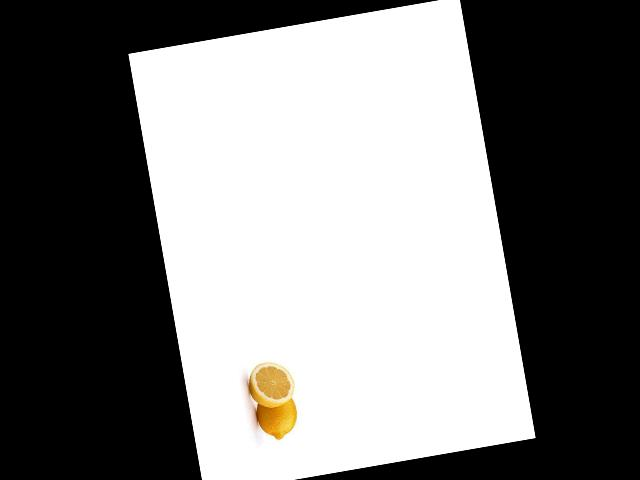lemon: (249, 393, 304, 443)
